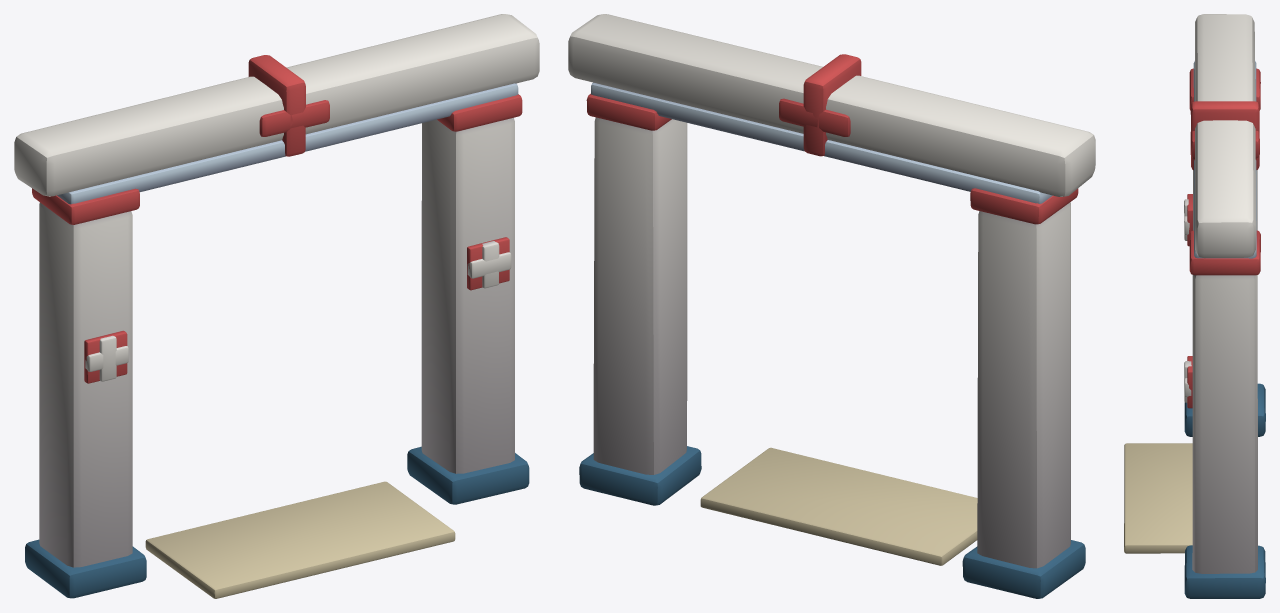
3 views of the same model, side by side, from view 1: azimuth 30°, elevation 25°; view 2: azimuth 150°, elevation 25°; view 3: azimuth 270°, elevation 25° (orthographic). The views are drawn at different scales.
Visible parts, largest first — view 1: gate_d65f6c16; view 2: gate_d65f6c16; view 3: gate_d65f6c16.
Part boxes in pixels (x1,y1,x2,y2): gate_d65f6c16: (14,14,539,598); gate_d65f6c16: (568,14,1095,598); gate_d65f6c16: (1124,14,1265,598).
Bounding box in the file's own units: 4.96 × 4.36 × 1.4.
